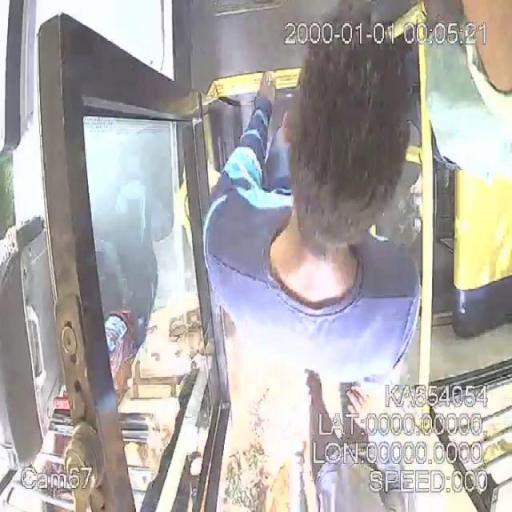persona: (198, 0, 424, 386), (294, 368, 418, 510)
